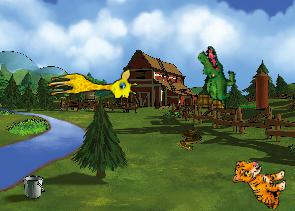crocodile: (183, 43, 249, 111)
giraffe: (46, 67, 138, 107)
tiger: (229, 157, 289, 210)
